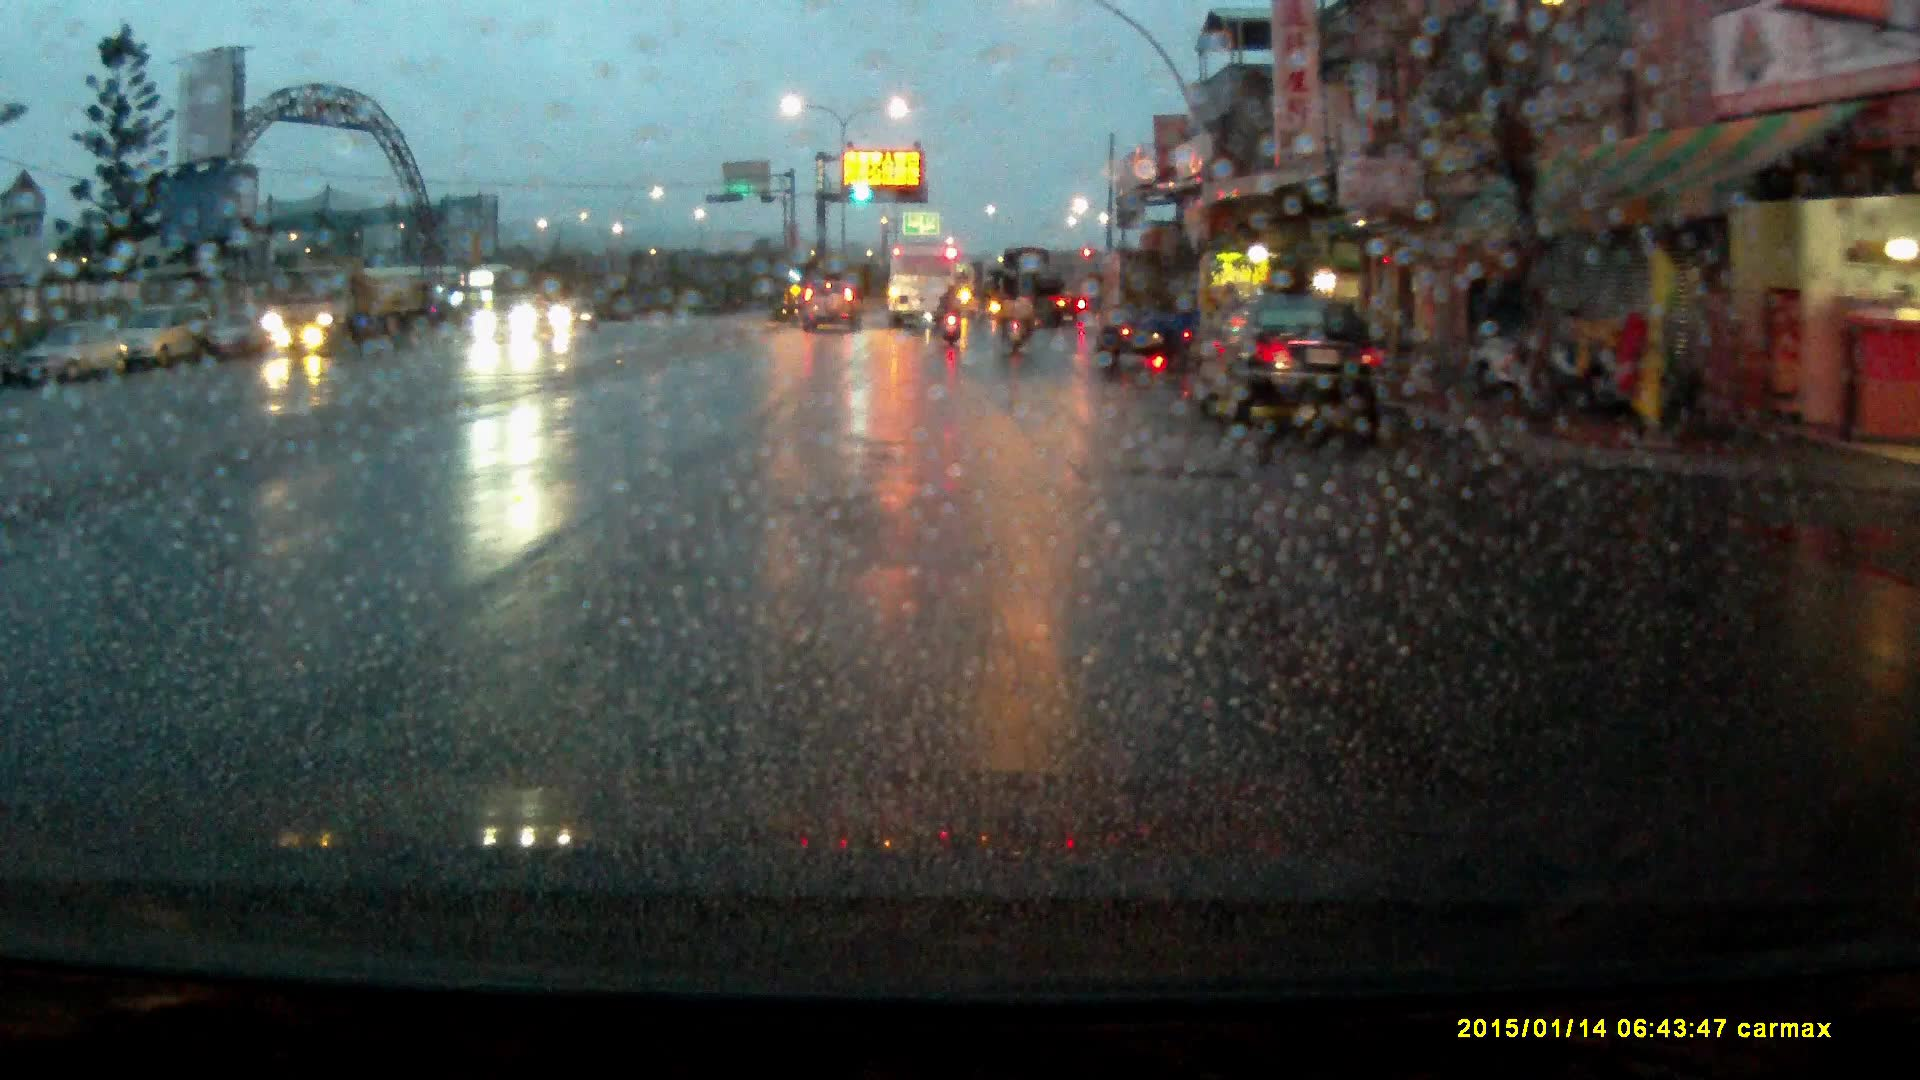rider: (994, 276, 1030, 359), (940, 282, 966, 349)
vehicle: (1190, 301, 1400, 433), (258, 260, 433, 357), (1090, 254, 1203, 369), (108, 306, 207, 373), (888, 248, 955, 336), (40, 323, 131, 388), (1002, 249, 1071, 335), (801, 277, 863, 337), (473, 300, 554, 344), (555, 299, 601, 334)
